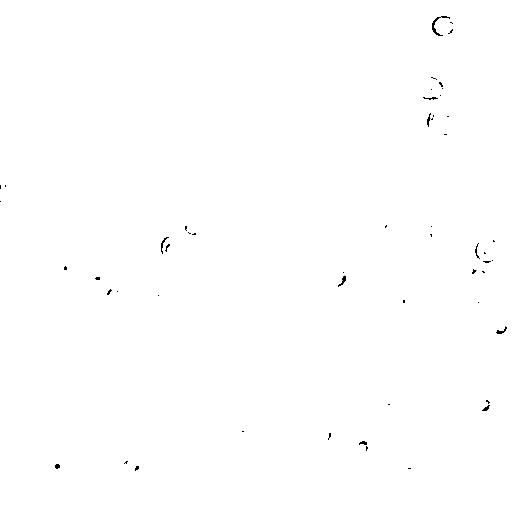micro-algae: (157, 0, 291, 69), (16, 31, 105, 118), (160, 357, 233, 431), (235, 443, 313, 511), (75, 247, 128, 302), (110, 441, 145, 477), (424, 106, 457, 137), (91, 487, 132, 511), (104, 0, 147, 21), (194, 124, 223, 153), (141, 239, 170, 267), (416, 75, 444, 103), (159, 233, 187, 261), (475, 235, 502, 263), (383, 282, 411, 309), (429, 13, 457, 39), (246, 23, 271, 52), (391, 466, 419, 491), (51, 253, 78, 278), (495, 59, 511, 101), (157, 52, 181, 78), (51, 421, 75, 446), (44, 453, 69, 477), (165, 110, 193, 131), (21, 415, 45, 439), (373, 384, 398, 407), (466, 265, 491, 286), (233, 413, 255, 435), (429, 220, 447, 246), (254, 437, 272, 459), (156, 283, 175, 303), (182, 219, 203, 237), (470, 293, 491, 311), (327, 267, 347, 285), (488, 316, 508, 334), (473, 394, 491, 414), (384, 219, 400, 239), (333, 502, 367, 511), (1, 182, 15, 203), (317, 427, 335, 443), (353, 439, 370, 455), (106, 285, 122, 301), (167, 363, 185, 377), (400, 229, 415, 245), (44, 111, 61, 125), (91, 269, 105, 285), (500, 361, 511, 381)
